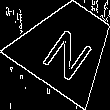N_NE: (35, 15, 99, 79)
